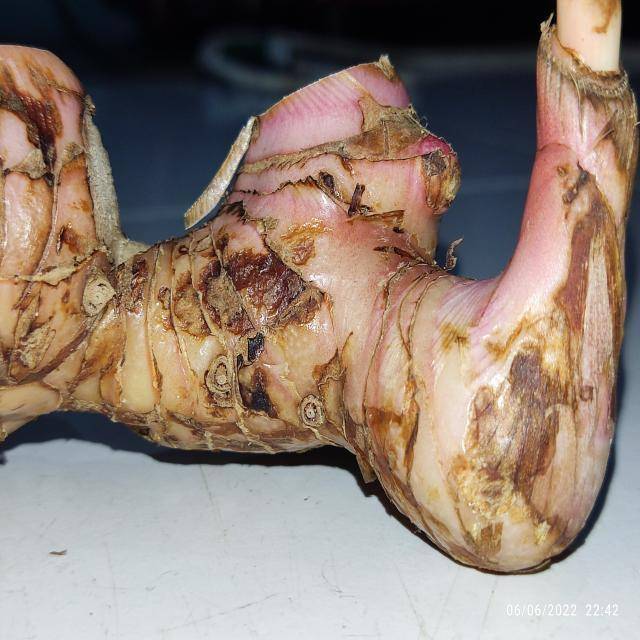ginger: (15, 77, 620, 560)
